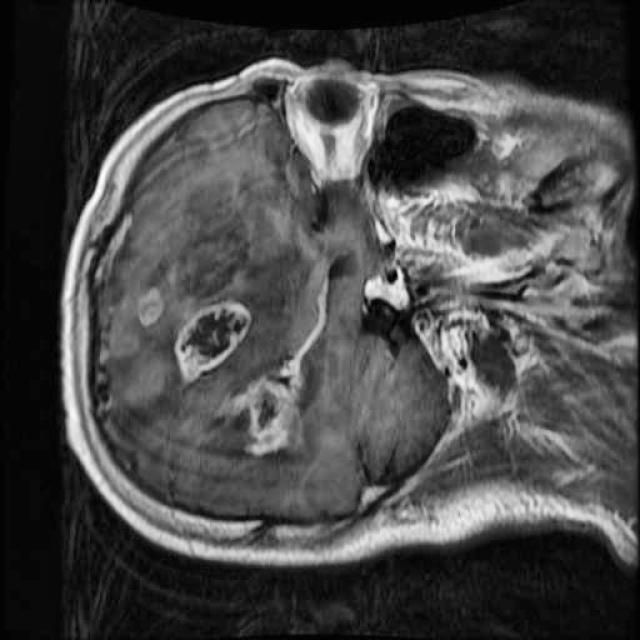Tumor: (113, 261, 313, 464)
